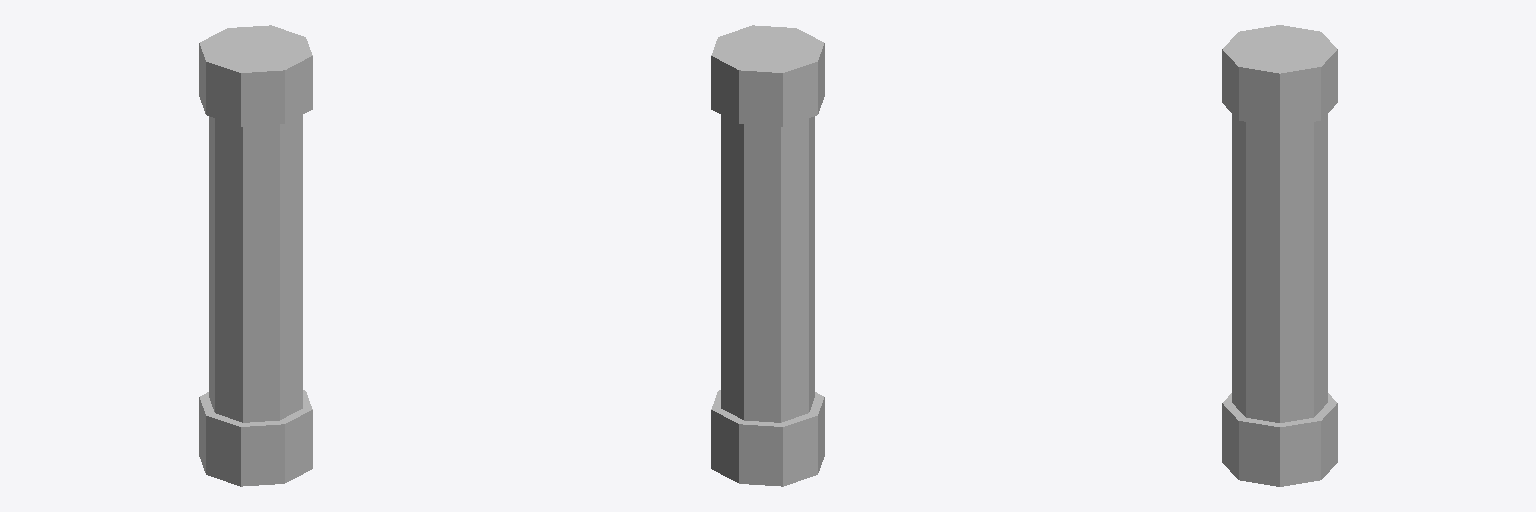
The model's file is Fusible.obj.
3 views of the same model, side by side, from view 1: azimuth 30°, elevation 25°; view 2: azimuth 150°, elevation 25°; view 3: azimuth 270°, elevation 25° (orthographic).
Visible parts, largest first — view 1: polySurface5 group3 Fusible, group3 Fusible polySurface6; view 2: polySurface5 group3 Fusible, group3 Fusible polySurface6; view 3: polySurface5 group3 Fusible, group3 Fusible polySurface6.
Part boxes in pixels (left/top/right/bottom): polySurface5 group3 Fusible: left=209, top=115, right=302, bottom=422; group3 Fusible polySurface6: left=199, top=25, right=312, bottom=486; polySurface5 group3 Fusible: left=721, top=115, right=814, bottom=422; group3 Fusible polySurface6: left=711, top=25, right=824, bottom=486; polySurface5 group3 Fusible: left=1232, top=114, right=1327, bottom=422; group3 Fusible polySurface6: left=1222, top=25, right=1337, bottom=486.
Size of the model in its own units: 5.57 by 22.02 by 5.57.